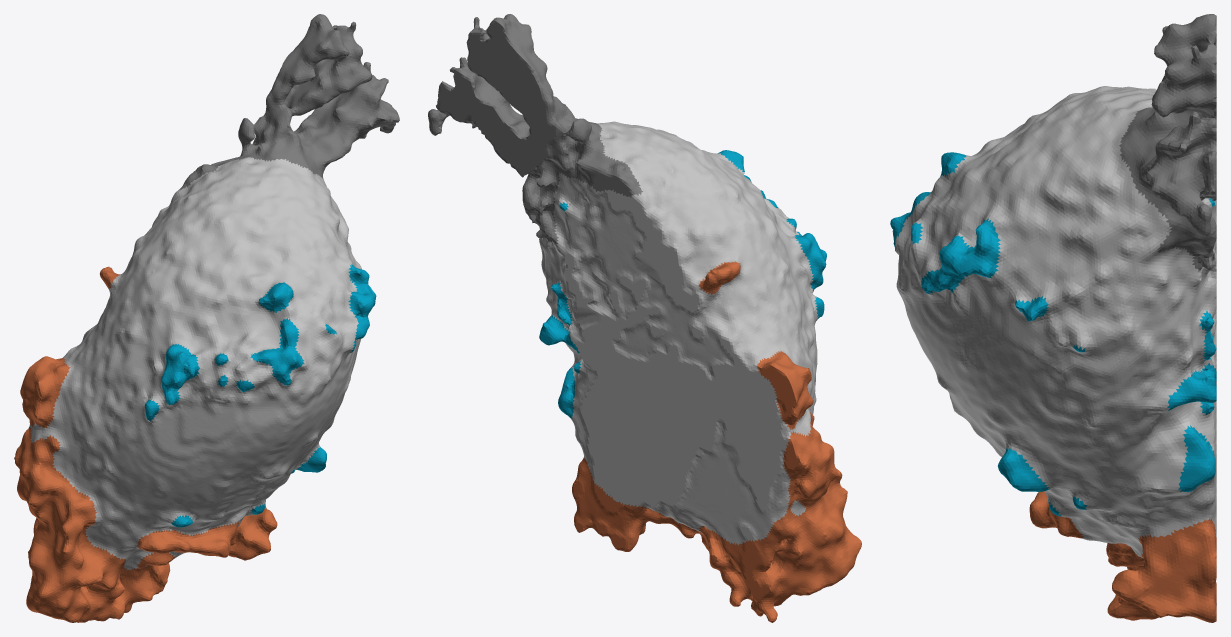
3 views of the same model, side by side, from view 1: azimuth 30°, elevation 25°; view 2: azimuth 150°, elevation 25°; view 3: azimuth 270°, elevation 25° (orthographic). The views are drawn at different scales.
Size of the model in its own units: 138 by 179 by 73.6.
